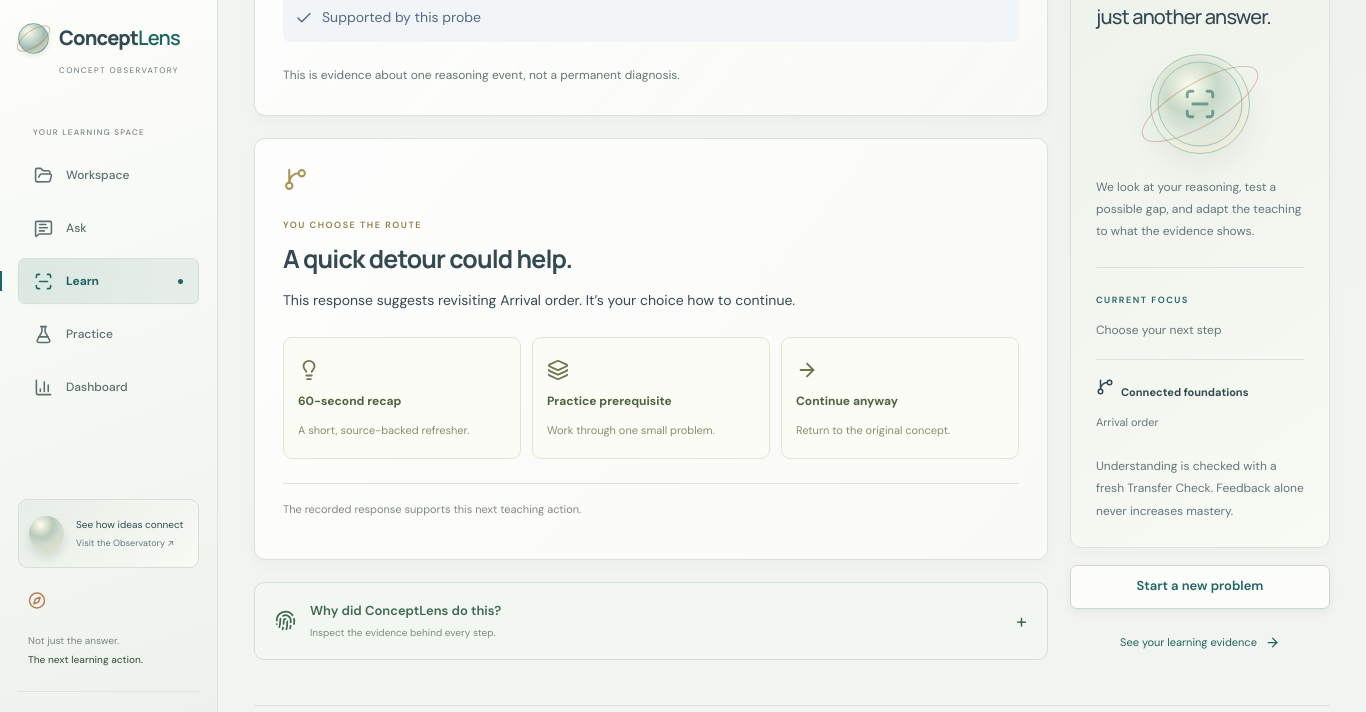
Test: application contracts › posts sixty_second_recap and renders only the returned strategy
The image size is (1366, 712).
(page scrolled)
Click the button "60-second recap A short, source-backed refresher.": (402, 398) [283,337,521,459]
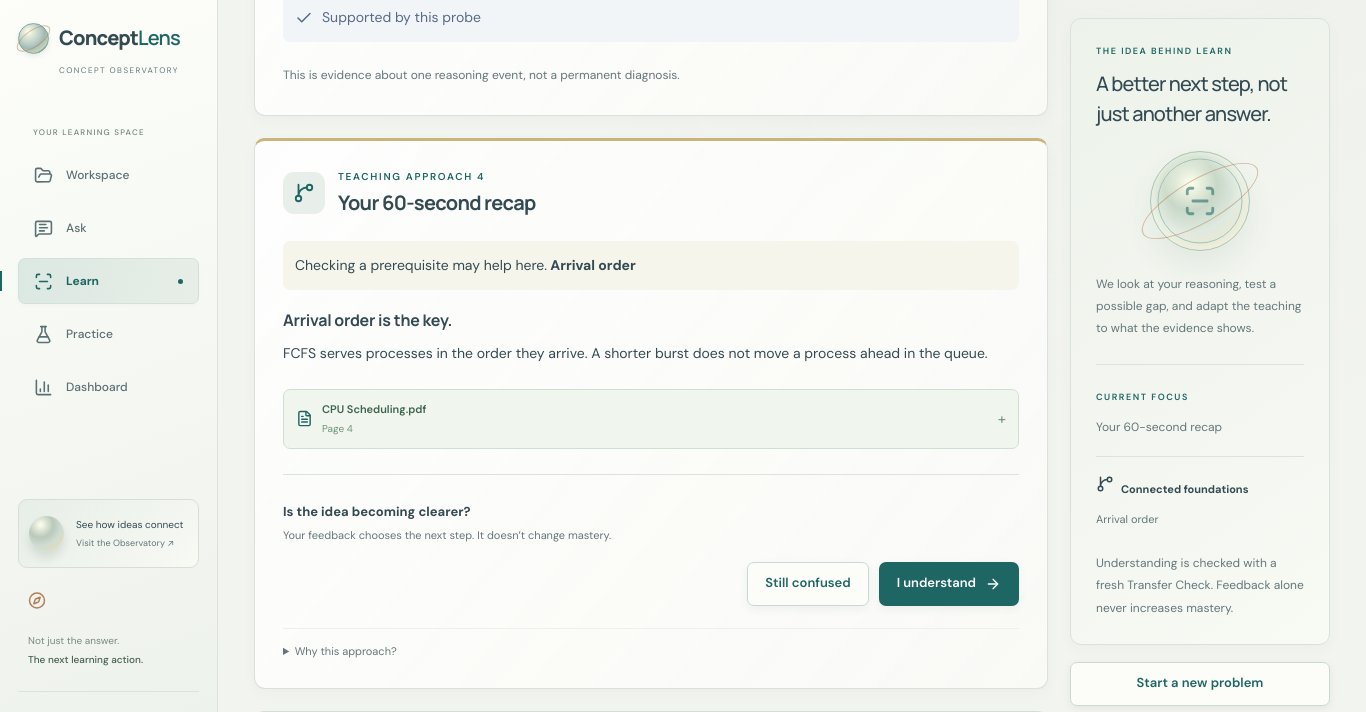
Result: the heading "Your 60-second recap" is shown at [338,190,536,216]
